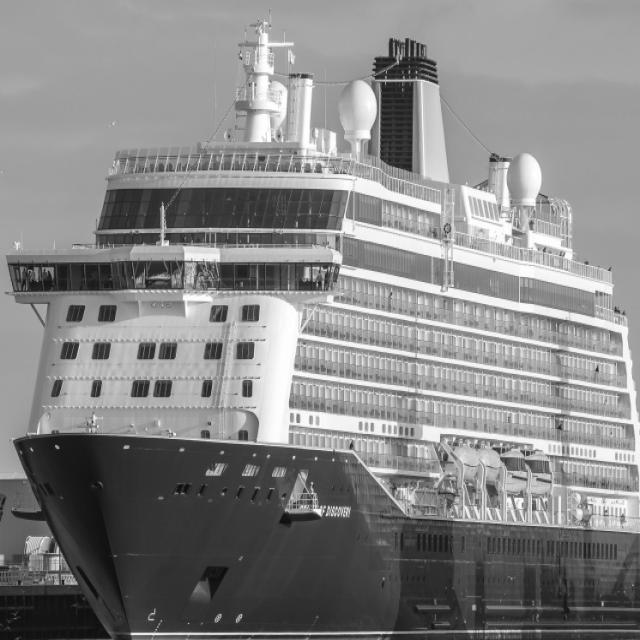cruises: (6, 11, 640, 640)
